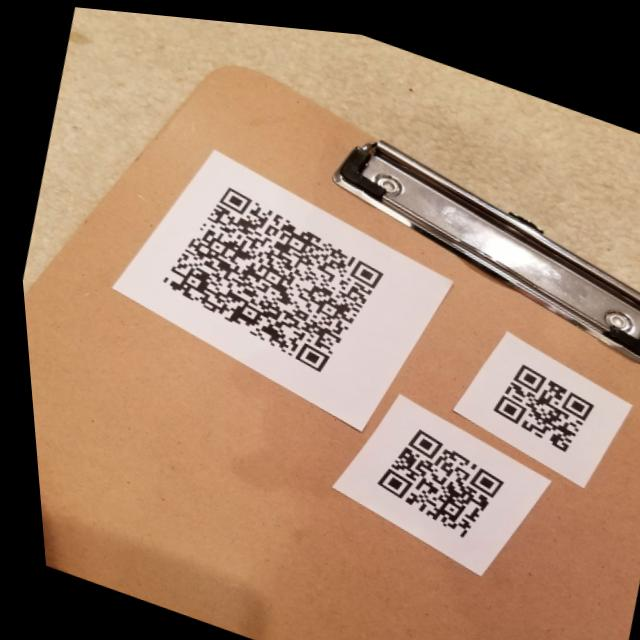QR_CODE: (124, 151, 405, 395), (345, 398, 530, 557), (469, 337, 612, 460)
